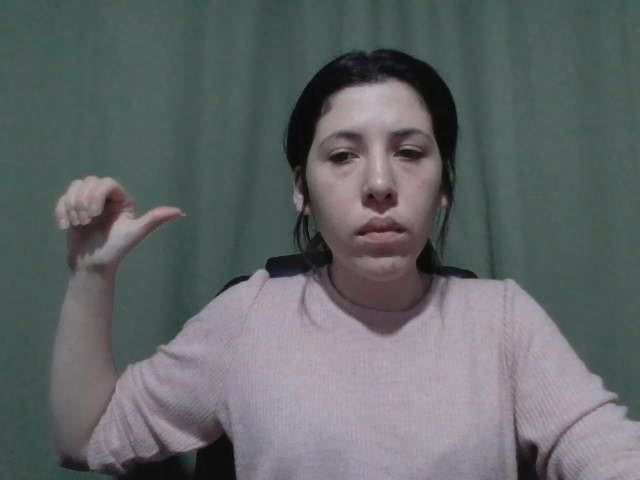CHAU: (50, 173, 193, 278)
